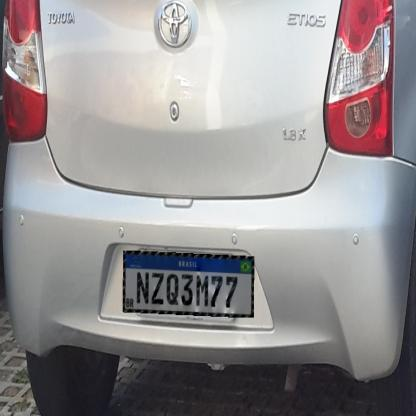PlacaM: (123, 250, 254, 318)
